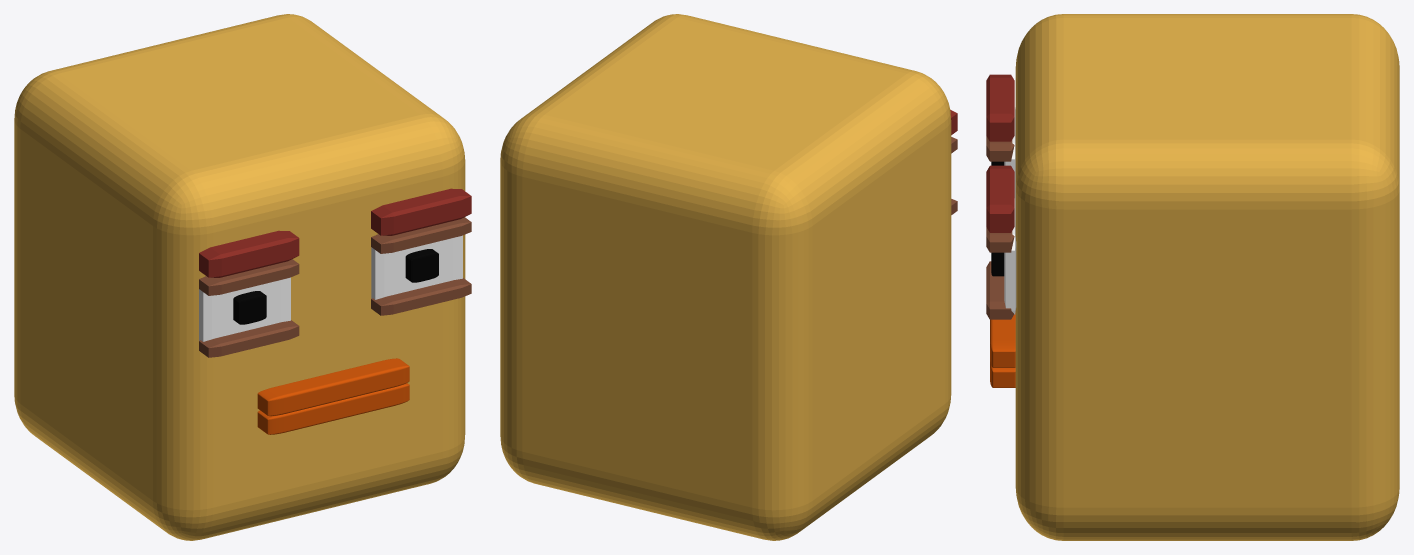
3 views of the same model, side by side, from view 1: azimuth 30°, elevation 25°; view 2: azimuth 150°, elevation 25°; view 3: azimuth 270°, elevation 25° (orthographic). The views are drawn at different scales.
Parts seen in each view (by area): view 1: head; view 2: head; view 3: head.
Part boxes in pixels (<box>): head: <box>14,14,471,540</box>; head: <box>500,14,957,540</box>; head: <box>986,14,1399,540</box>.
Bounding box in the file's own units: 0.7 × 0.8 × 0.7536.
